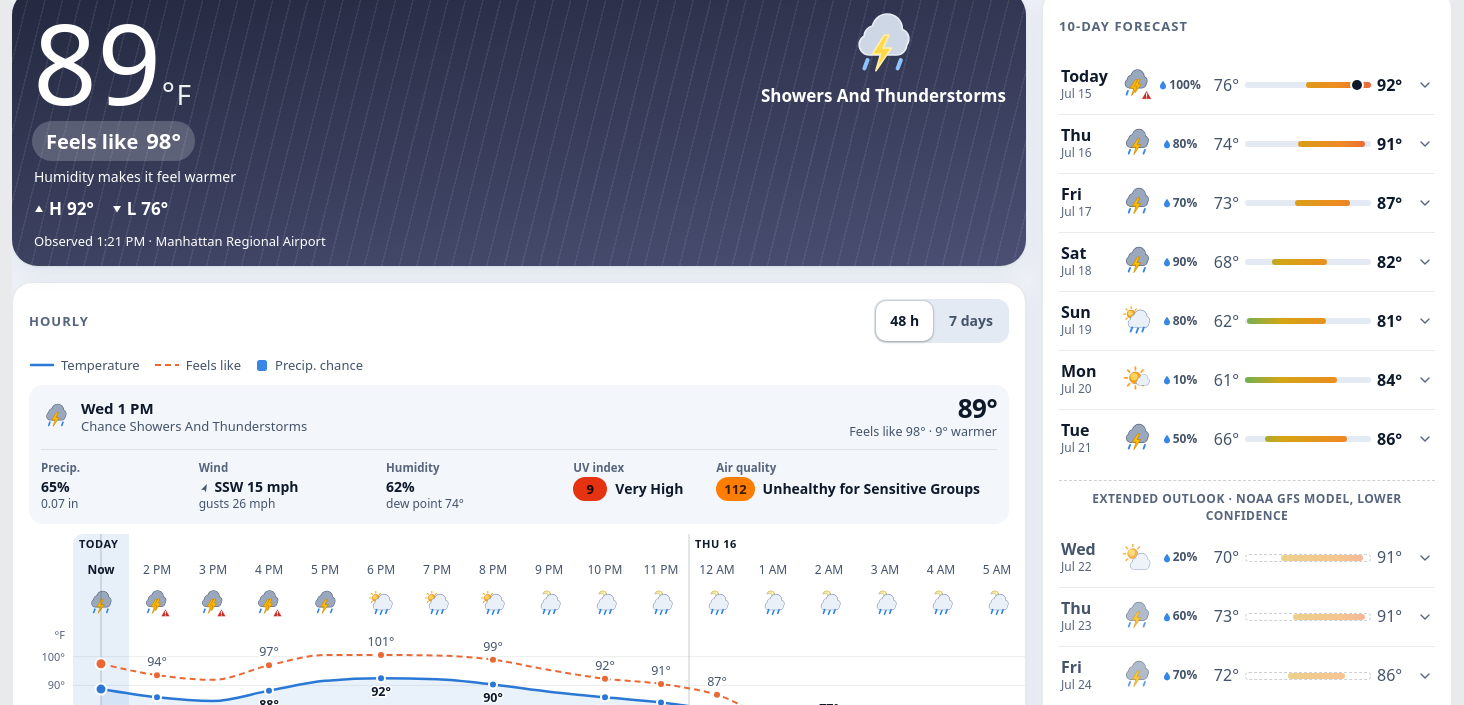
Test: 10-day list › explains that an extended day is model output rather than a forecaster
The image size is (1464, 705).
Click the button "Thu Jul 23 60% 73° 91°". click: [1247, 617]
box: [1059,588,1435,646]
(page scrolled)
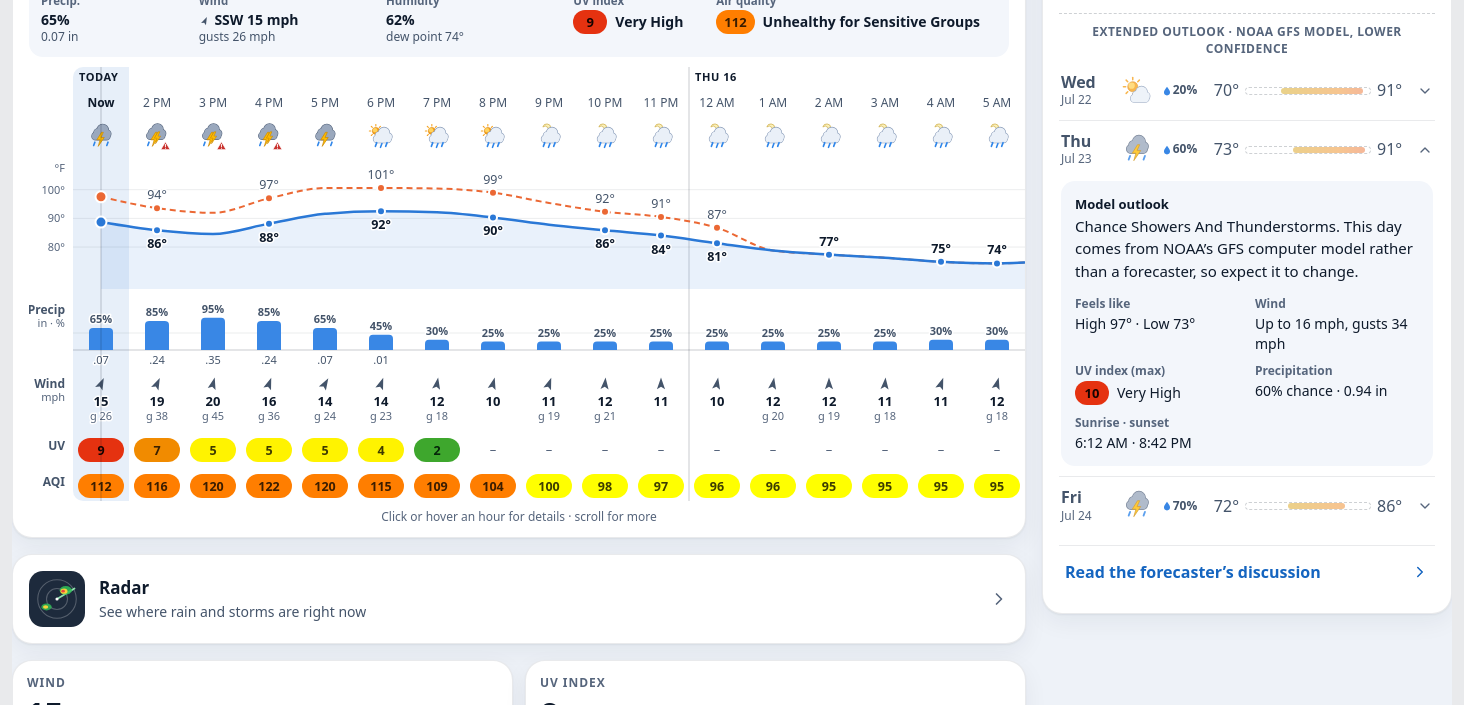
Expected: the element named "Thursday details" shows "GFS computer model", [1075,216,1413,281]
